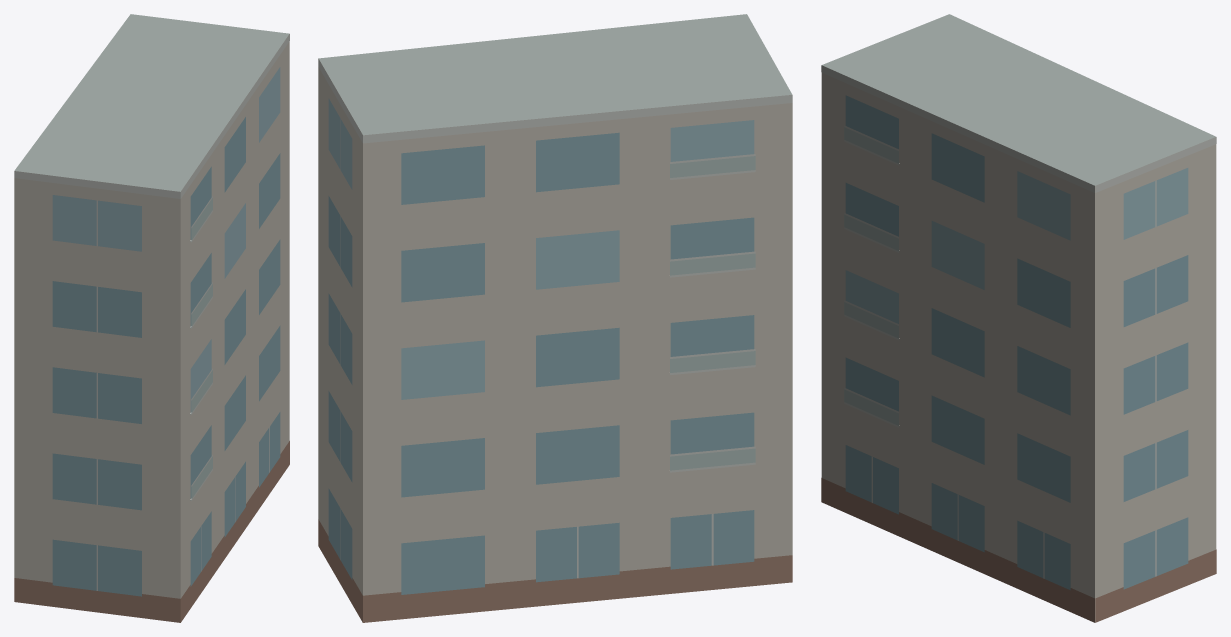
Rendered from survey-upis-32888629.glb.
3 renders of one model, left to right at view 1: azimuth 30°, elevation 25°; view 2: azimuth 150°, elevation 25°; view 3: azimuth 270°, elevation 25°, orthographic. The views are drawn at different scales.
Visible parts, largest first — view 1: survey-upis-32888629.tmp; view 2: survey-upis-32888629.tmp; view 3: survey-upis-32888629.tmp.
Part boxes in pixels (x1,y1,x2,y2): survey-upis-32888629.tmp: (14,14,289,622); survey-upis-32888629.tmp: (318,14,792,622); survey-upis-32888629.tmp: (821,14,1216,622).
Size of the model in its own units: 12.28 by 14.55 by 11.92.
